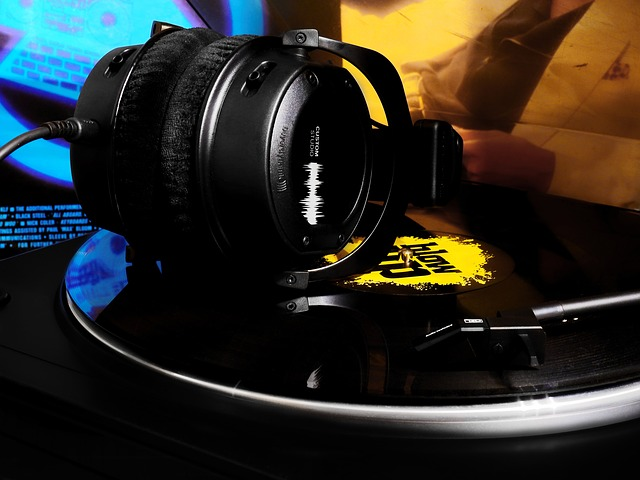headphones: (71, 27, 464, 289)
